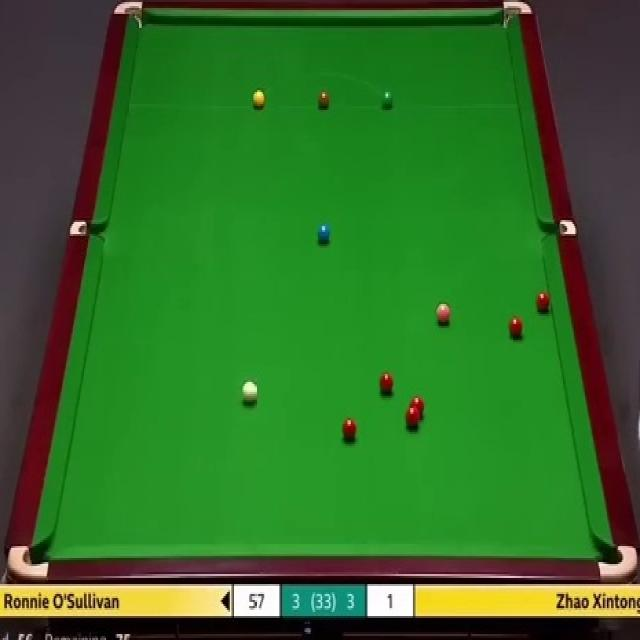pocket: (595, 545, 638, 583), (8, 545, 50, 580), (502, 0, 531, 31), (113, 0, 143, 28), (66, 218, 102, 238), (540, 220, 574, 235)
